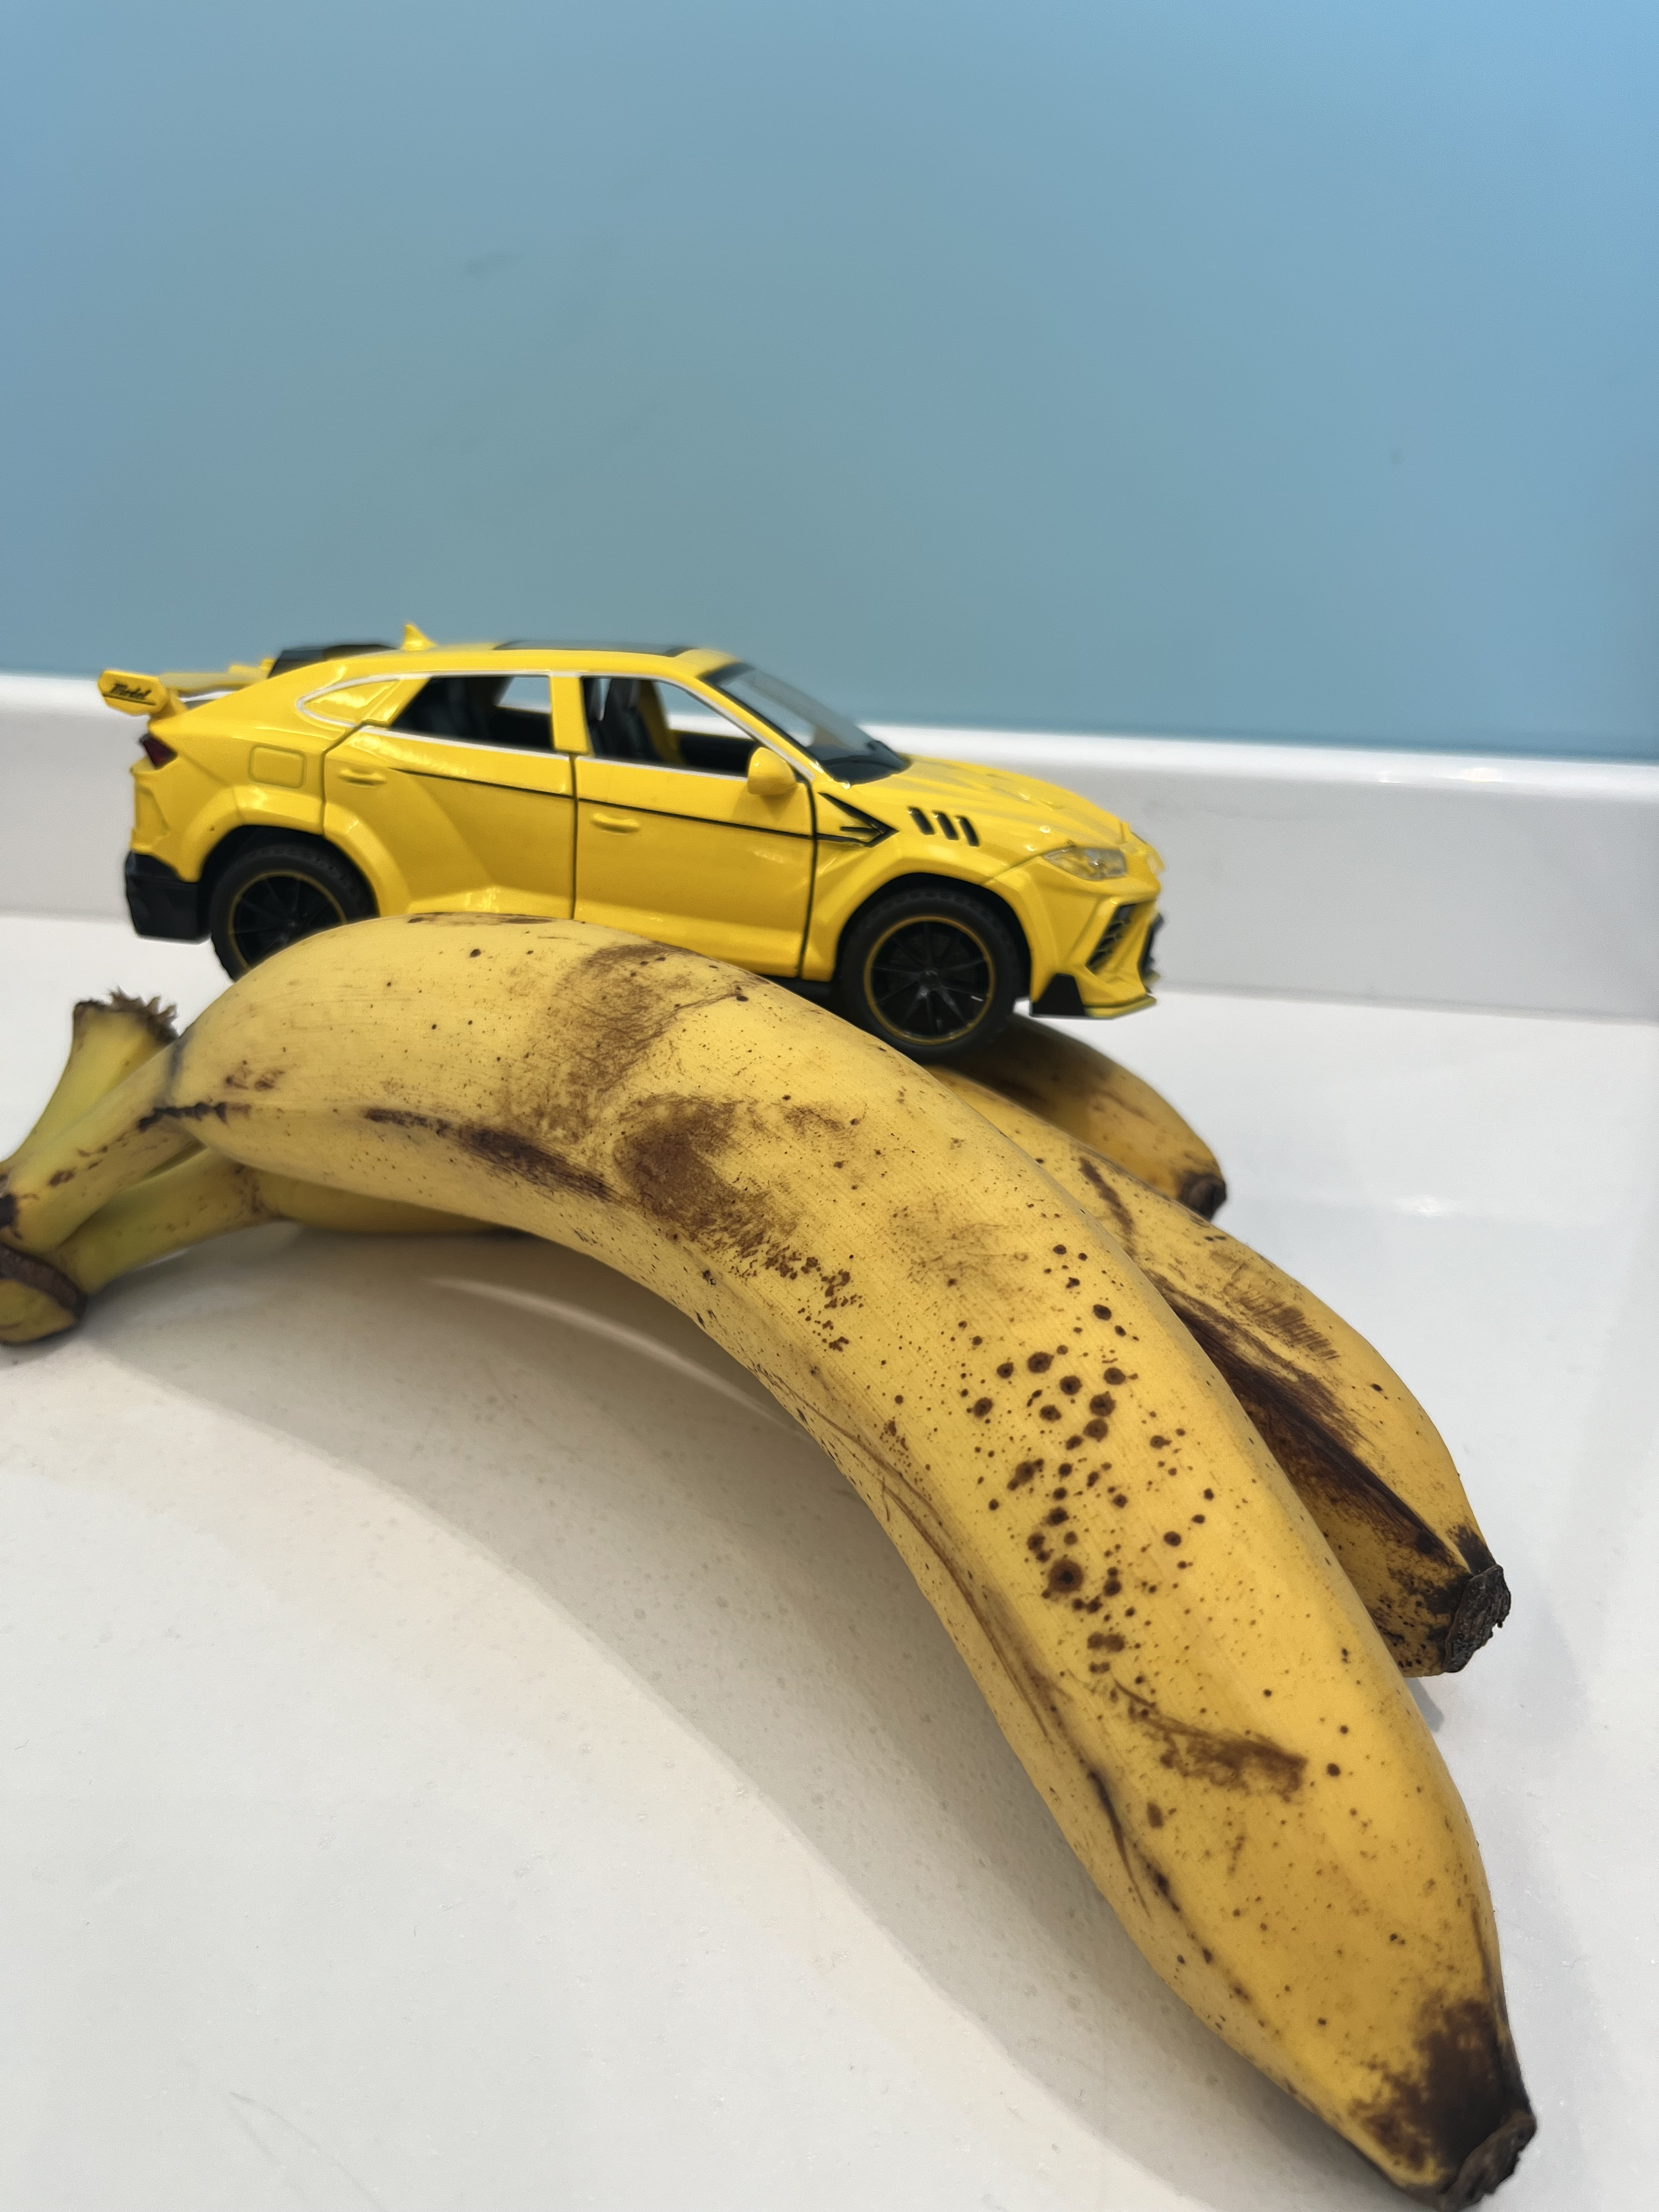lambo: (103, 573, 1190, 1050)
